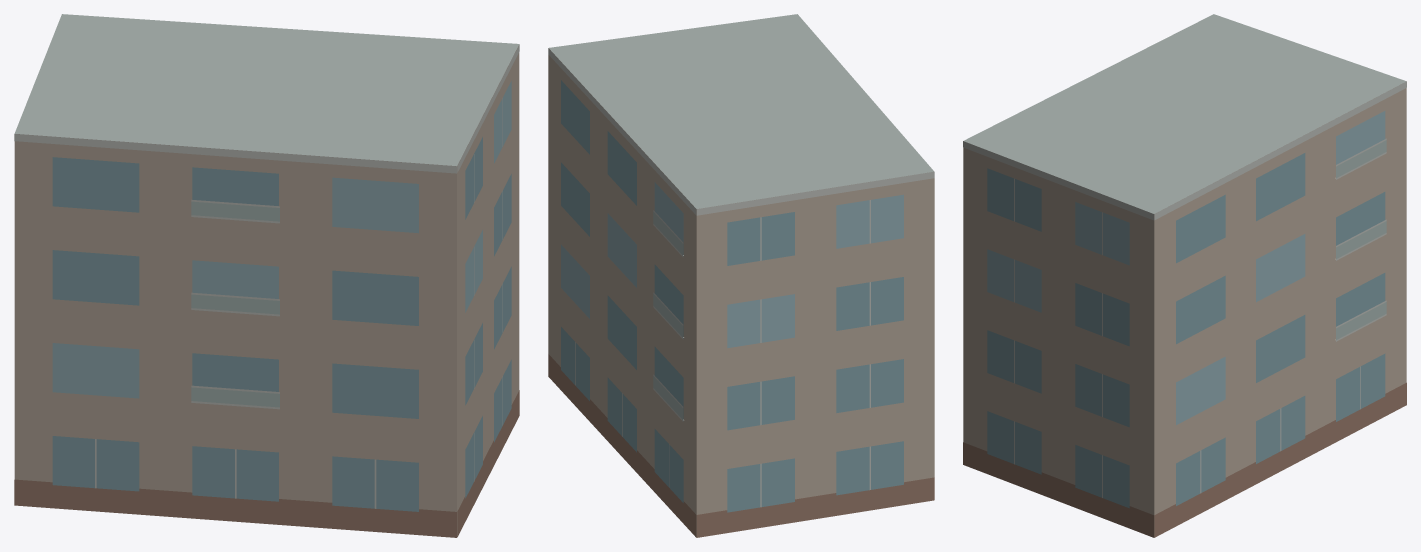
The model's file is residential-8f2d3bef-fd30-4375-a890-16b394447e0c.glb.
3 renders of one model, left to right at view 1: azimuth 30°, elevation 25°; view 2: azimuth 150°, elevation 25°; view 3: azimuth 270°, elevation 25°, orthographic. The views are drawn at different scales.
Parts seen in each view (by area): view 1: residential-8f2d3bef-fd30-4375-a890-16b394447e0c.tmp; view 2: residential-8f2d3bef-fd30-4375-a890-16b394447e0c.tmp; view 3: residential-8f2d3bef-fd30-4375-a890-16b394447e0c.tmp.
Boxes of the visible parts, x1,y1,x2,y2 form: residential-8f2d3bef-fd30-4375-a890-16b394447e0c.tmp: (14,14,519,537); residential-8f2d3bef-fd30-4375-a890-16b394447e0c.tmp: (548,14,934,537); residential-8f2d3bef-fd30-4375-a890-16b394447e0c.tmp: (963,14,1406,537).
Size of the model in its own units: 16.18 by 12.2 by 15.16.
